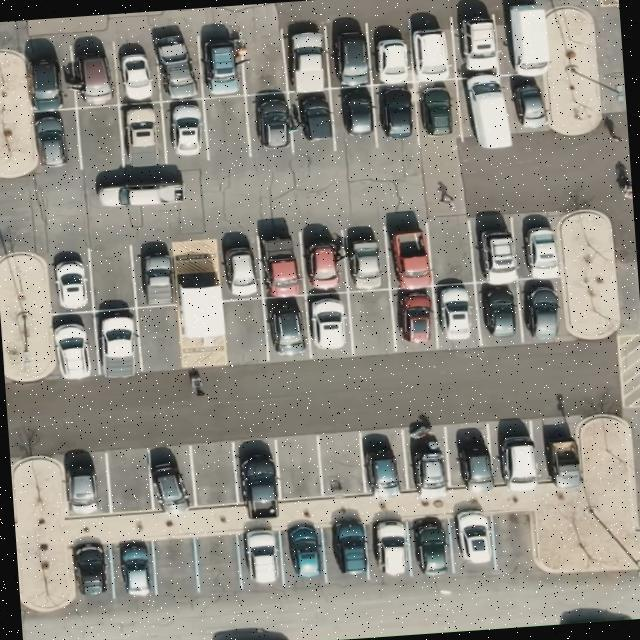space-empty: (426, 213, 476, 284), (316, 432, 366, 501), (238, 24, 286, 95), (76, 104, 123, 176), (188, 442, 238, 509), (88, 242, 136, 311), (135, 304, 183, 372), (203, 93, 250, 162), (348, 288, 396, 354), (193, 530, 241, 596), (104, 448, 150, 516), (220, 299, 268, 364), (492, 516, 543, 573), (152, 536, 198, 596), (278, 439, 314, 498)
space-occupied: (458, 73, 515, 150), (282, 20, 336, 92), (90, 306, 146, 375), (452, 4, 506, 75), (401, 423, 452, 498), (494, 0, 543, 77), (231, 438, 283, 510), (43, 314, 97, 382), (217, 230, 268, 301), (468, 214, 519, 284), (534, 412, 582, 486), (384, 217, 434, 288), (304, 290, 356, 358), (46, 242, 95, 314), (145, 444, 195, 514), (195, 31, 247, 98), (358, 428, 407, 498), (23, 42, 72, 112), (321, 22, 372, 89), (494, 418, 540, 492), (449, 506, 499, 574), (432, 281, 482, 348), (365, 512, 412, 583), (416, 78, 464, 147), (60, 449, 108, 518), (322, 514, 370, 583), (390, 284, 438, 352), (296, 226, 344, 294), (341, 222, 389, 290), (119, 100, 167, 168), (114, 36, 162, 104), (408, 12, 456, 80), (513, 212, 561, 280), (160, 97, 208, 164), (278, 521, 326, 588), (30, 109, 80, 173), (366, 20, 414, 86), (448, 424, 493, 494), (262, 294, 308, 362), (406, 512, 452, 580), (372, 82, 418, 150), (518, 277, 564, 344), (240, 523, 286, 590), (71, 41, 117, 108), (110, 538, 158, 602), (256, 228, 300, 297), (332, 85, 378, 150), (130, 242, 176, 306), (476, 282, 522, 345), (248, 91, 294, 154), (508, 74, 554, 135), (158, 34, 198, 100), (70, 542, 113, 602), (290, 90, 334, 147)
